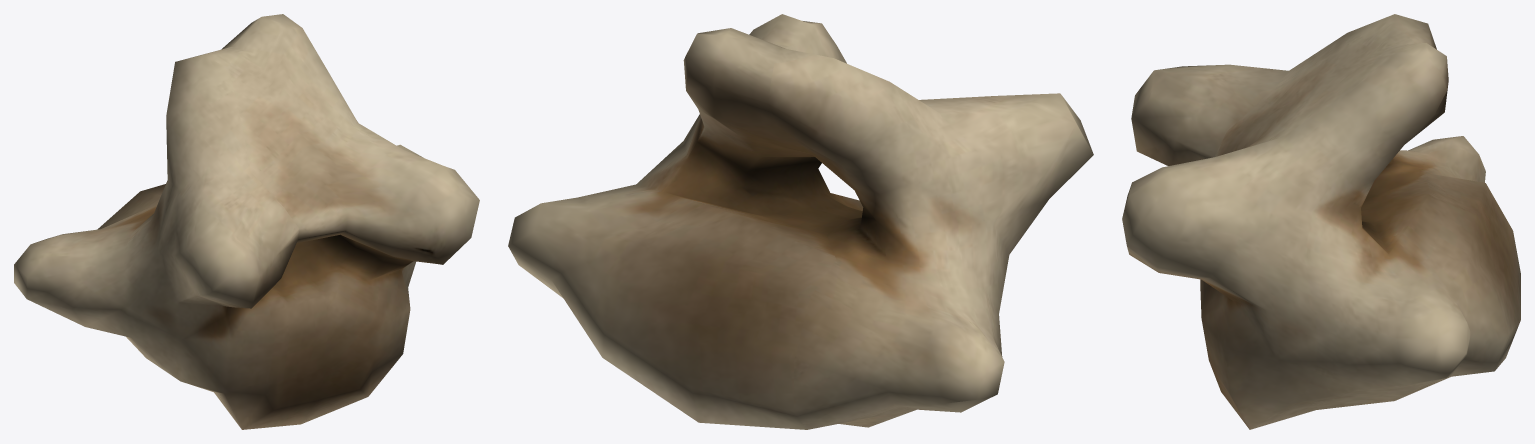
File: Caudal_Vertebrae2.glb
3 renders of one model, left to right at view 1: azimuth 30°, elevation 25°; view 2: azimuth 150°, elevation 25°; view 3: azimuth 270°, elevation 25°, orthographic. The views are drawn at different scales.
Parts seen in each view (by area): view 1: Caudal_Vertebrae_21:Group13972; view 2: Caudal_Vertebrae_21:Group13972; view 3: Caudal_Vertebrae_21:Group13972.
Part boxes in pixels (x1=…): Caudal_Vertebrae_21:Group13972: x1=14, y1=14, x2=479, y2=429; Caudal_Vertebrae_21:Group13972: x1=508, y1=14, x2=1093, y2=429; Caudal_Vertebrae_21:Group13972: x1=1122, y1=14, x2=1520, y2=429.
Size of the model in its own units: 17.48 by 14.46 by 13.37.
Materials: 1 (1 with a texture image).
